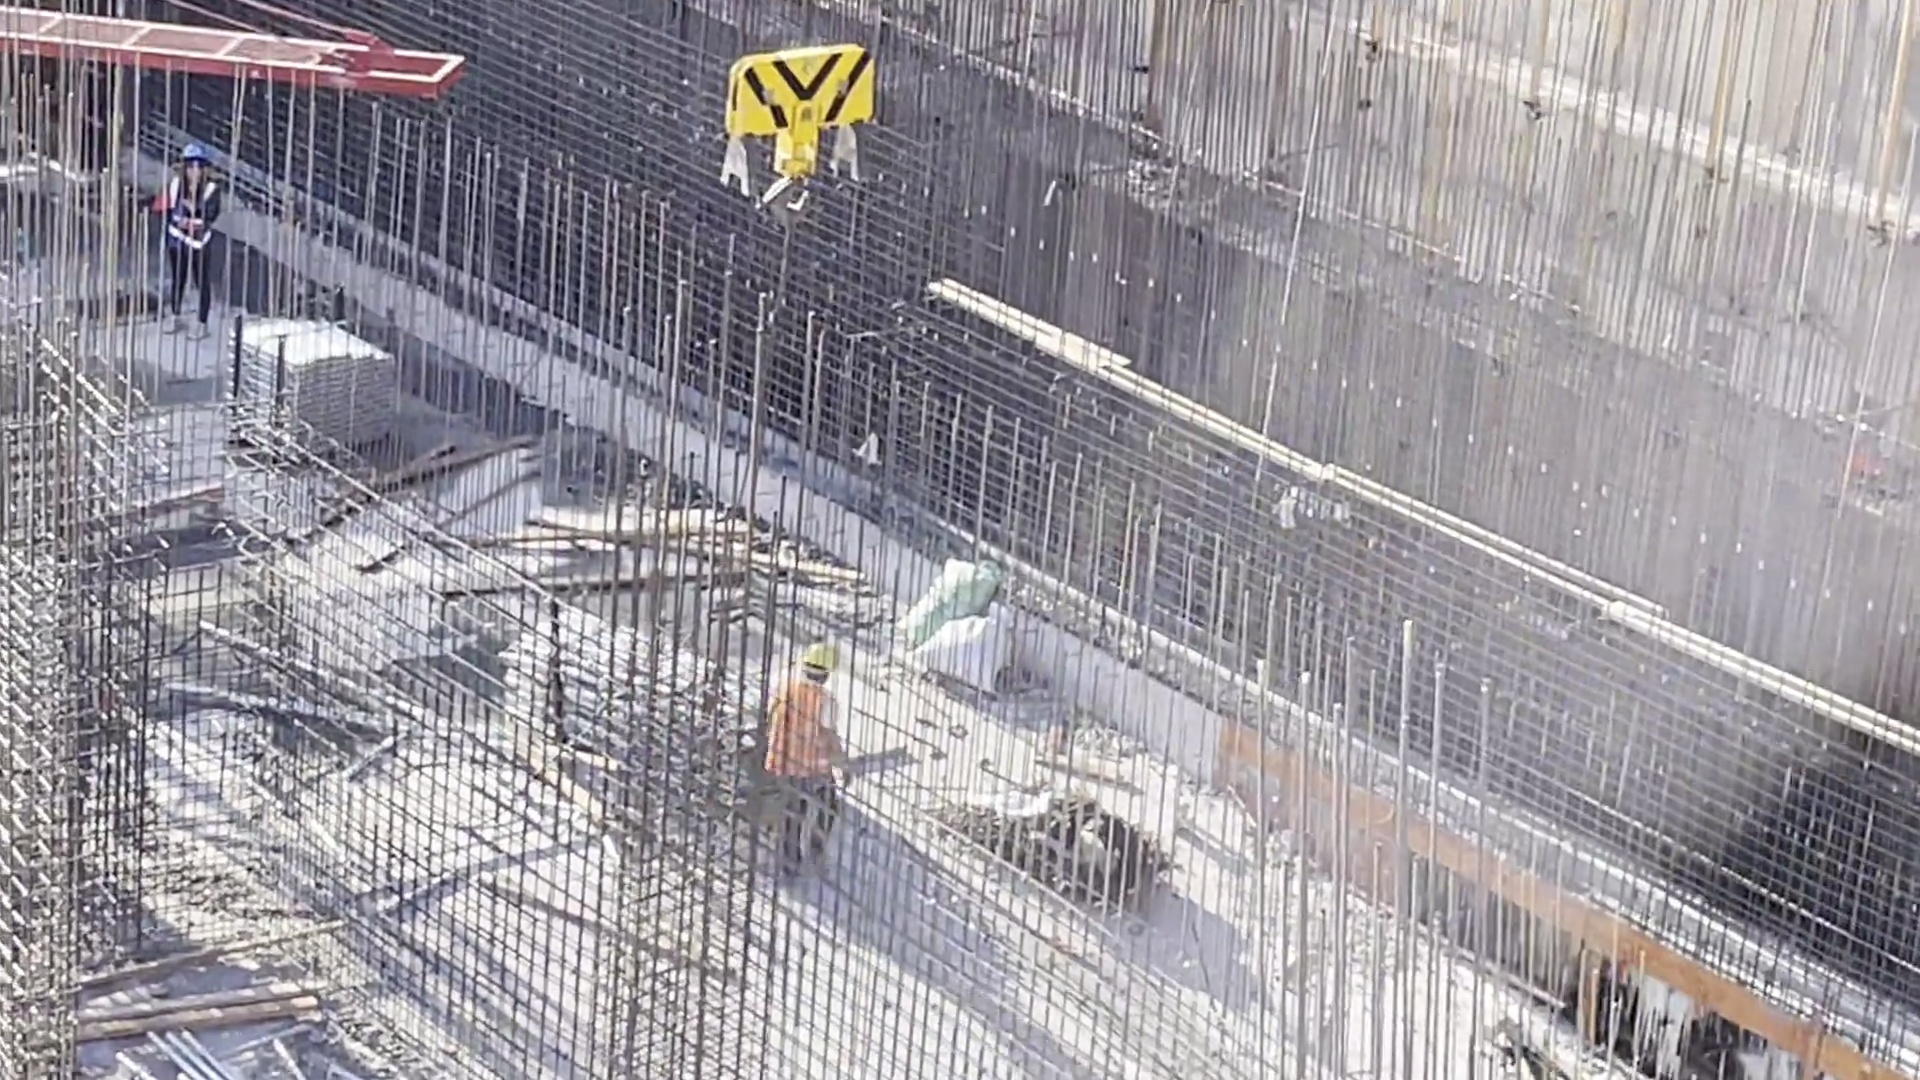helmet: (800, 637, 833, 686), (180, 130, 210, 174)
hook: (693, 1, 908, 235)
person: (773, 634, 852, 886), (173, 138, 232, 369)
scaffold: (228, 302, 423, 474)
vest: (771, 682, 836, 787), (168, 175, 218, 263)
